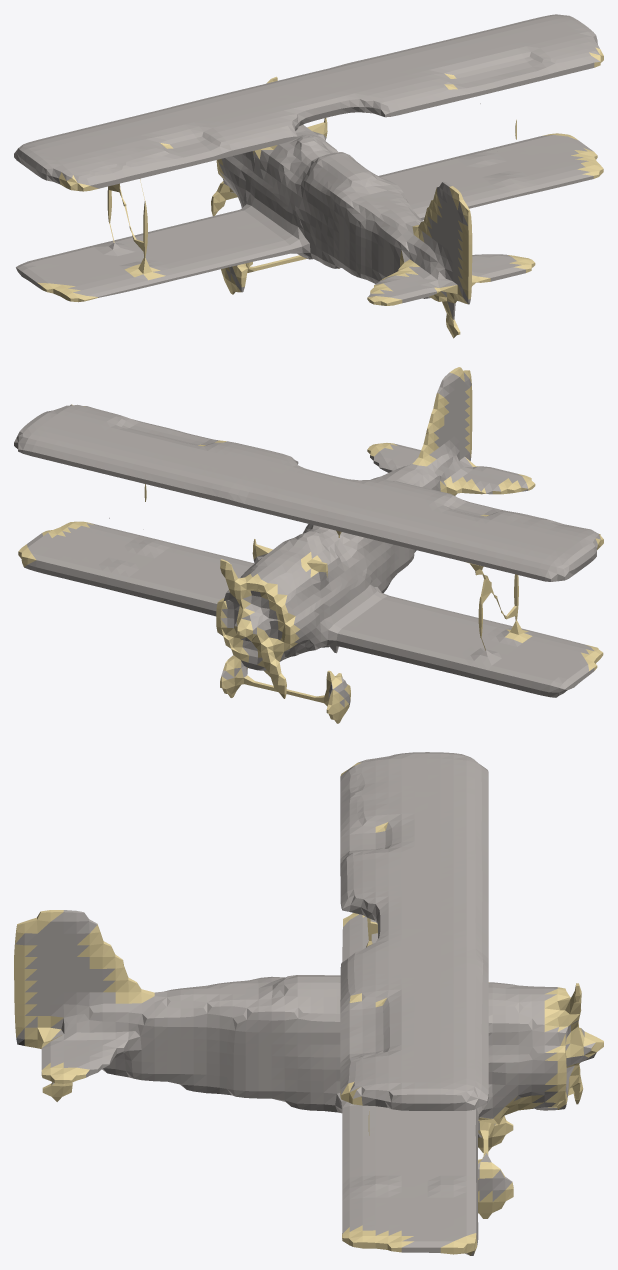
File: unit_duster.glb
The picture shows the model from 3 angles, top to bottom: view 1: azimuth 30°, elevation 25°; view 2: azimuth 150°, elevation 25°; view 3: azimuth 270°, elevation 25°; orthographic projection. The views are drawn at different scales.
Visible parts, largest first — view 1: Mesh_0.038; view 2: Mesh_0.038; view 3: Mesh_0.038.
Part boxes in pixels (left/top/right/bottom): Mesh_0.038: left=14, top=14, right=603, bottom=338; Mesh_0.038: left=14, top=367, right=603, bottom=723; Mesh_0.038: left=14, top=752, right=603, bottom=1255.
Bounding box in the file's own units: 5.53 × 2.05 × 4.
